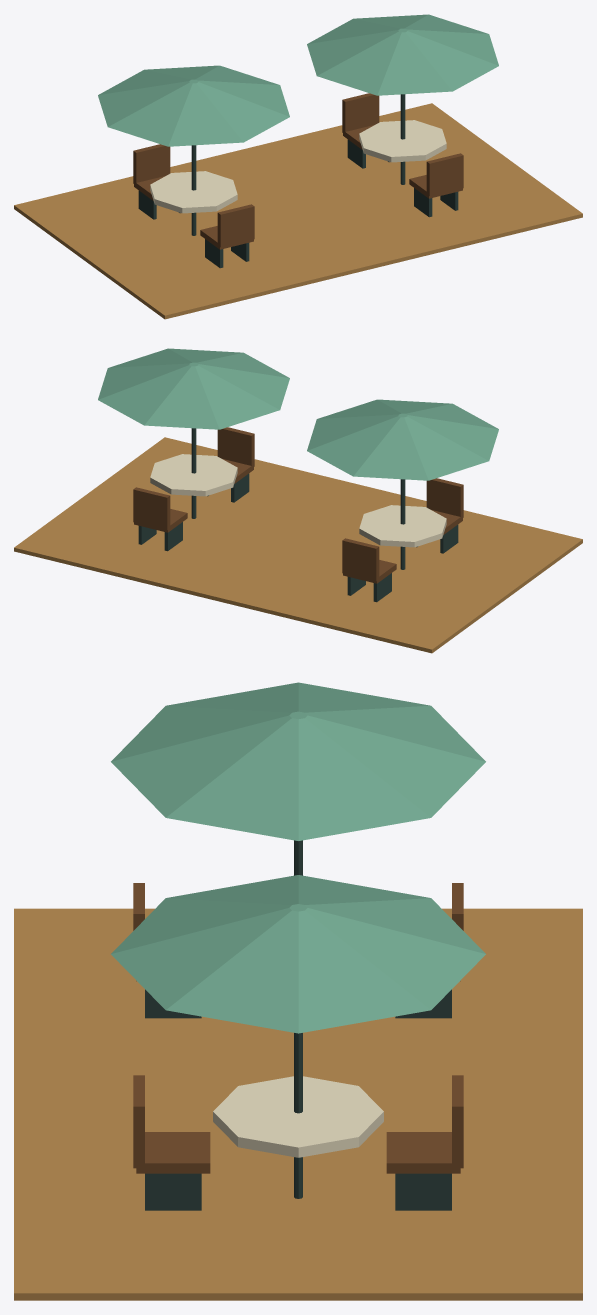
File: CafeTerrace.obj
3 renders of one model, top to bottom at view 1: azimuth 30°, elevation 25°; view 2: azimuth 150°, elevation 25°; view 3: azimuth 270°, elevation 25°, orthographic. The views are drawn at different scales.
Parts seen in each view (by area): view 1: CafeTerrace; view 2: CafeTerrace; view 3: CafeTerrace.
Boxes of the visible parts, x1,y1,x2,y2 form: CafeTerrace: [14, 14, 582, 319]; CafeTerrace: [14, 348, 582, 653]; CafeTerrace: [14, 682, 582, 1300].
Size of the model in its own units: 8 by 2.88 by 5.
1 material, 1 textured.
